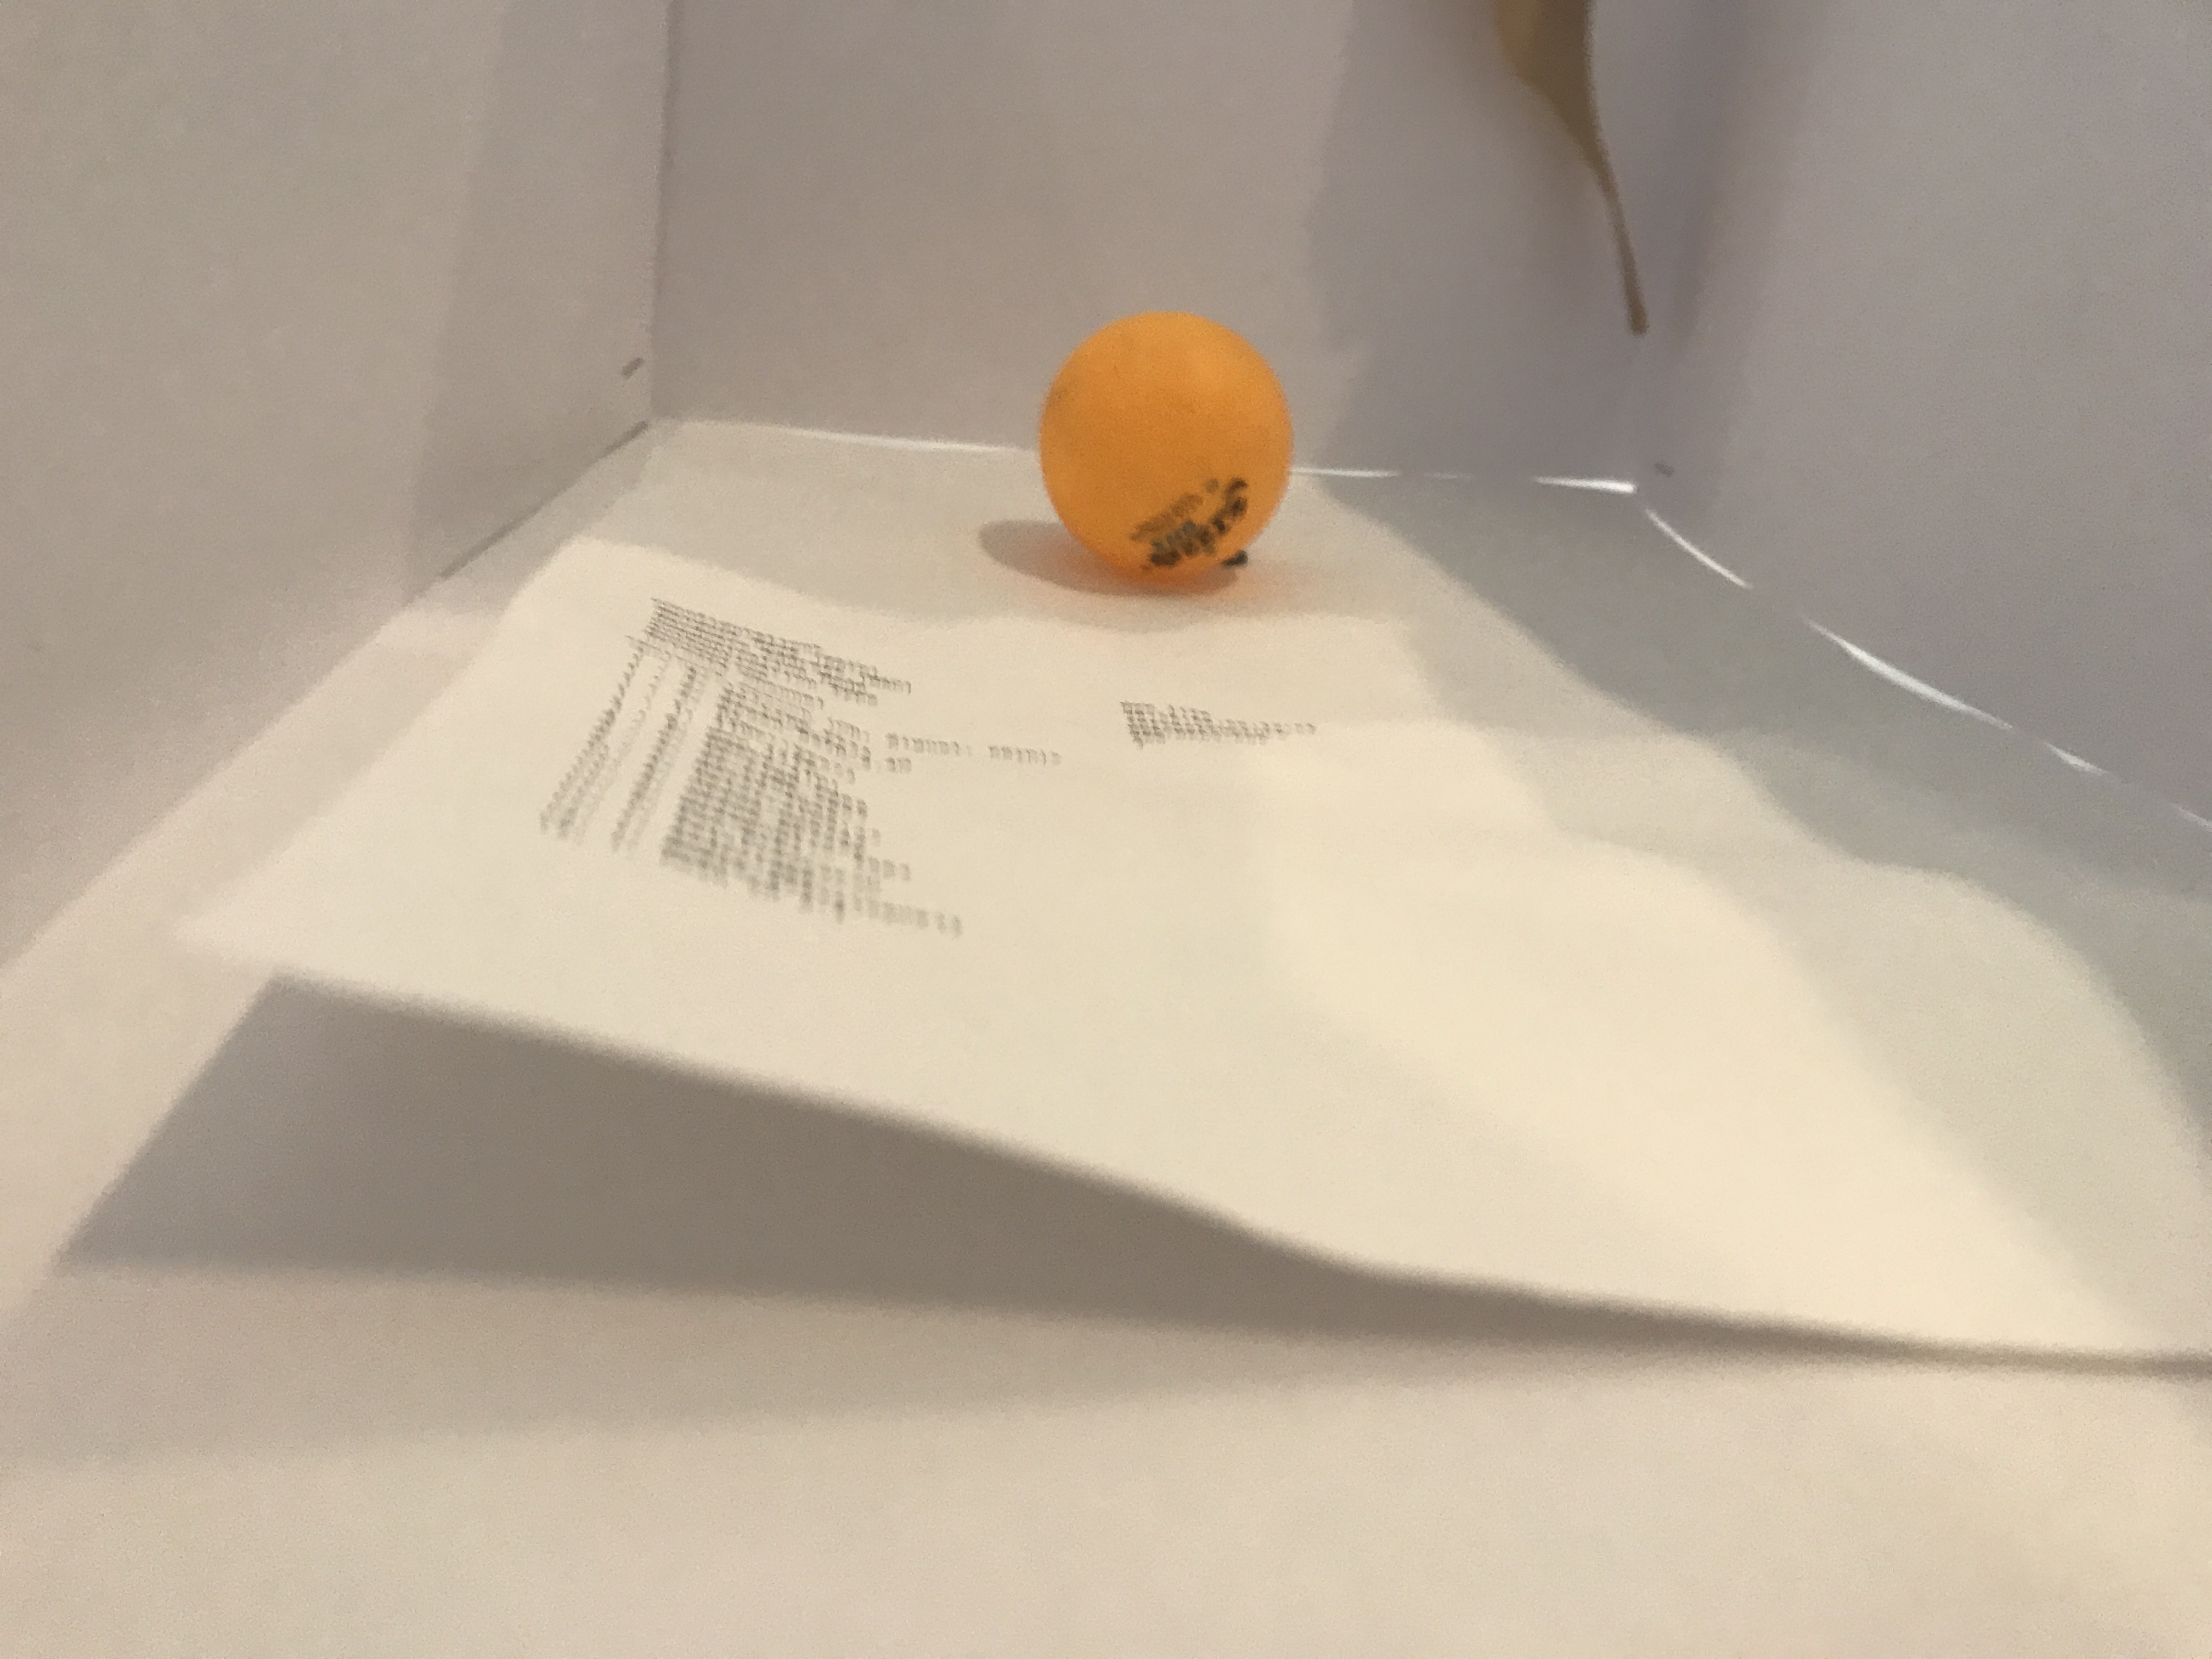pp: (1033, 296, 1299, 587)
